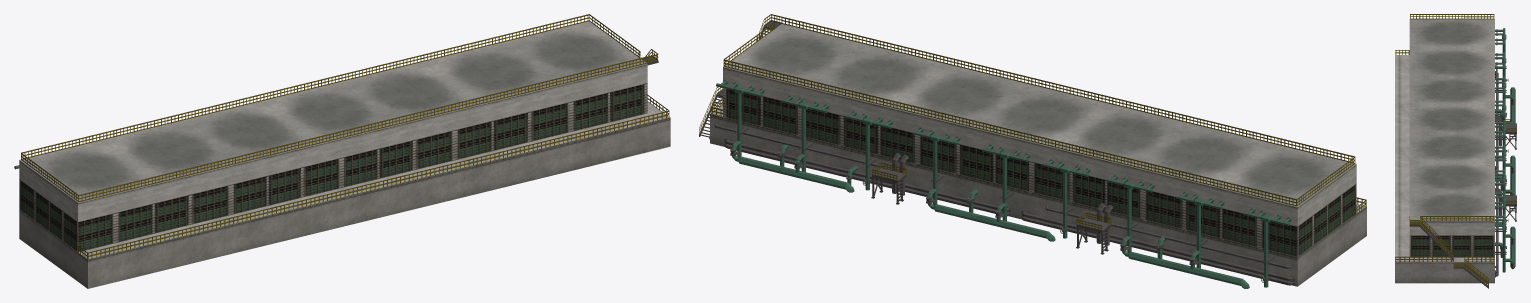
The model's file is laminar_cooling_03.obj.
The picture shows the model from 3 angles, left to right: view 1: azimuth 30°, elevation 25°; view 2: azimuth 150°, elevation 25°; view 3: azimuth 270°, elevation 25°; orthographic projection. The views are drawn at different scales.
Parts seen in each view (by area): view 1: Object153; view 2: Object153; view 3: Object153.
Boxes of the visible parts, x1,y1,x2,y2 form: Object153: (14,14,670,288); Object153: (699,14,1366,288); Object153: (1395,14,1516,288).
Bounding box in the file's own units: 200 × 28.01 × 48.5.
